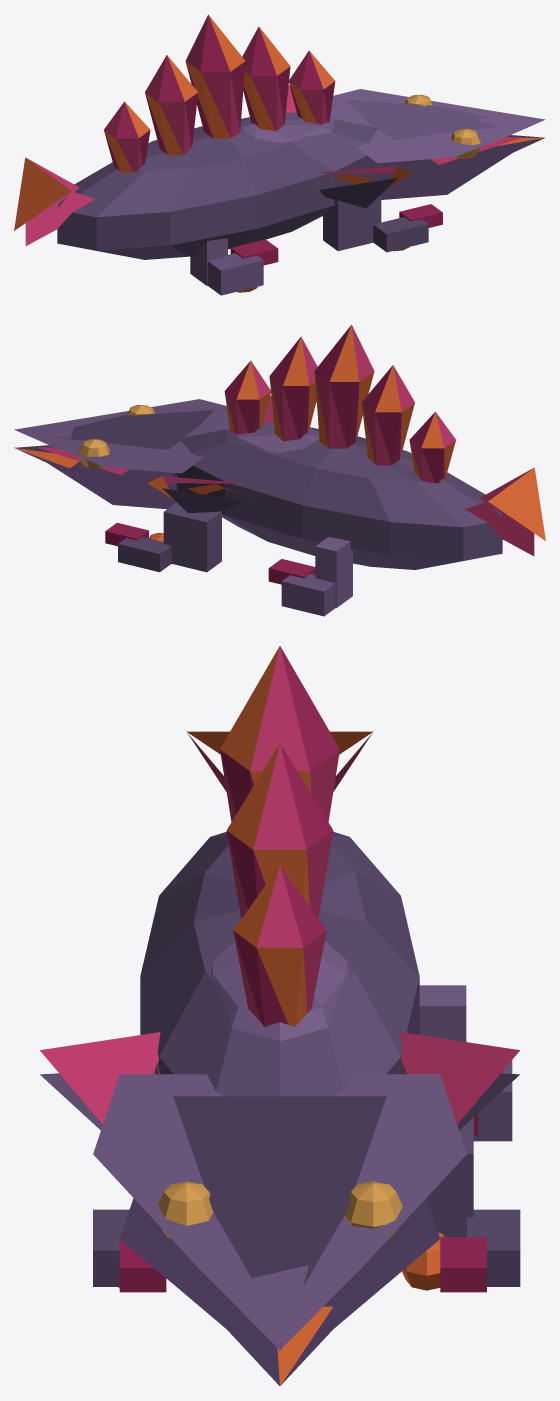
Rendered from enemy-runner.glb.
3 views of the same model, one above another, from view 1: azimuth 30°, elevation 25°; view 2: azimuth 150°, elevation 25°; view 3: azimuth 270°, elevation 25° (orthographic). The views are drawn at different scales.
Parts seen in each view (by area): view 1: Runner elongated arrow quadruped; view 2: Runner elongated arrow quadruped; view 3: Runner elongated arrow quadruped.
Part boxes in pixels (<box>): Runner elongated arrow quadruped: <box>14,14,545,295</box>; Runner elongated arrow quadruped: <box>14,324,545,616</box>; Runner elongated arrow quadruped: <box>40,646,520,1385</box>.
Size of the model in its own units: 0.92 by 0.4193 by 0.36.
